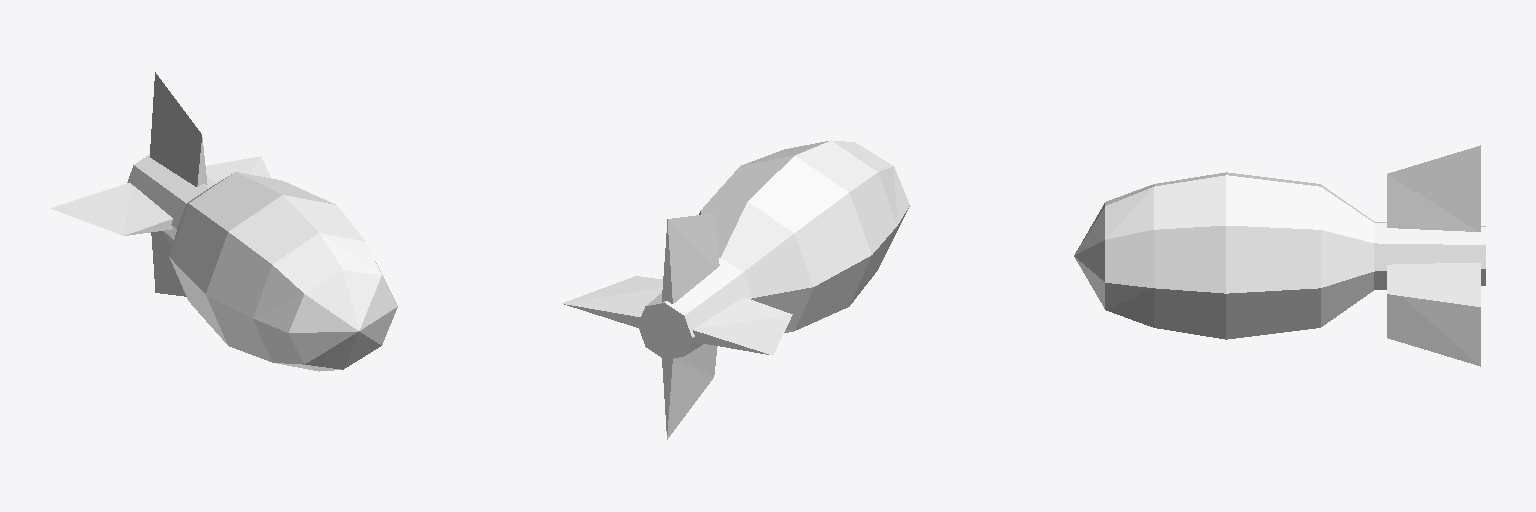
The model's file is mis2.obj.
3 views of the same model, side by side, from view 1: azimuth 30°, elevation 25°; view 2: azimuth 150°, elevation 25°; view 3: azimuth 270°, elevation 25° (orthographic).
Parts seen in each view (by area): view 1: mdl_R; view 2: mdl_R; view 3: mdl_R.
Part boxes in pixels (x1,y1,x2,y2): mdl_R: (50,72,397,371); mdl_R: (562,140,909,439); mdl_R: (1074,145,1485,366).
Bounding box in the file's own units: 4.11 × 4.11 × 6.93.